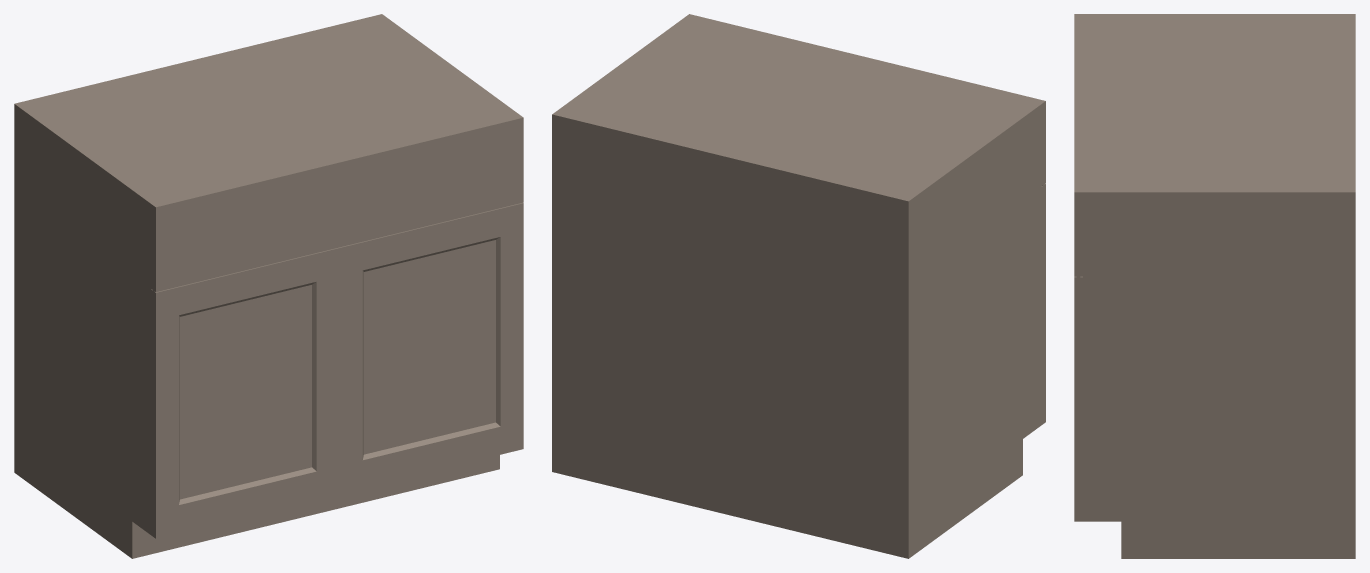
The model's file is Base-Cabinet-Double-Door-Two-Drawer-24-Deep_std_001_W36in.glb.
3 renders of one model, left to right at view 1: azimuth 30°, elevation 25°; view 2: azimuth 150°, elevation 25°; view 3: azimuth 270°, elevation 25°, orthographic. The views are drawn at different scales.
Parts seen in each view (by area): view 1: Base-Cabinet-Double-Door-Two-Drawer-24-Deep.std.001_W36in; view 2: Base-Cabinet-Double-Door-Two-Drawer-24-Deep.std.001_W36in; view 3: Base-Cabinet-Double-Door-Two-Drawer-24-Deep.std.001_W36in.
Boxes of the visible parts, left/top/right/bottom form: Base-Cabinet-Double-Door-Two-Drawer-24-Deep.std.001_W36in: left=14, top=14, right=523, bottom=558; Base-Cabinet-Double-Door-Two-Drawer-24-Deep.std.001_W36in: left=552, top=14, right=1045, bottom=558; Base-Cabinet-Double-Door-Two-Drawer-24-Deep.std.001_W36in: left=1074, top=14, right=1355, bottom=558.
Size of the model in its own units: 0.9144 by 0.8763 by 0.6096.
